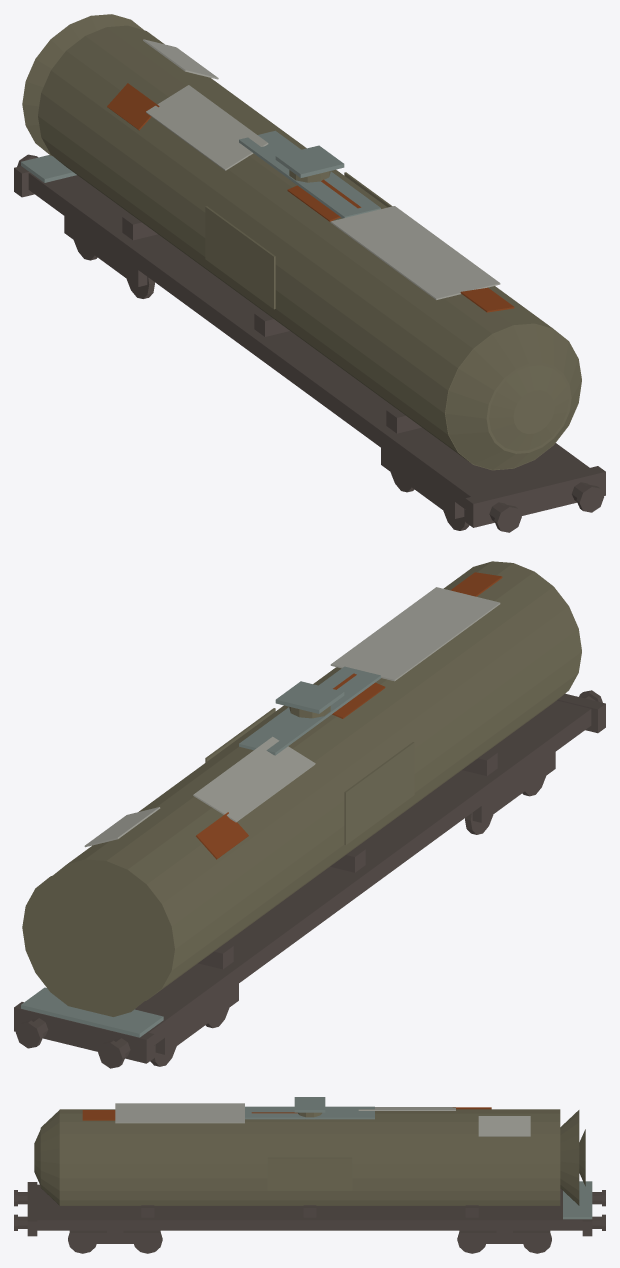
Rendered from SM_VagonCisterna_v4_Quemada_LOD0.fbx.
The picture shows the model from 3 angles, top to bottom: view 1: azimuth 30°, elevation 25°; view 2: azimuth 150°, elevation 25°; view 3: azimuth 270°, elevation 25°; orthographic projection. The views are drawn at different scales.
Parts seen in each view (by area): view 1: SM_bloques.vagon_cisterna_v4_LOD0; view 2: SM_bloques.vagon_cisterna_v4_LOD0; view 3: SM_bloques.vagon_cisterna_v4_LOD0.
Boxes of the visible parts, x1,y1,x2,y2 form: SM_bloques.vagon_cisterna_v4_LOD0: (14, 14, 605, 532); SM_bloques.vagon_cisterna_v4_LOD0: (14, 561, 605, 1068); SM_bloques.vagon_cisterna_v4_LOD0: (14, 1097, 605, 1253).
Size of the model in its own units: 3.08 by 4.69 by 18.24.
